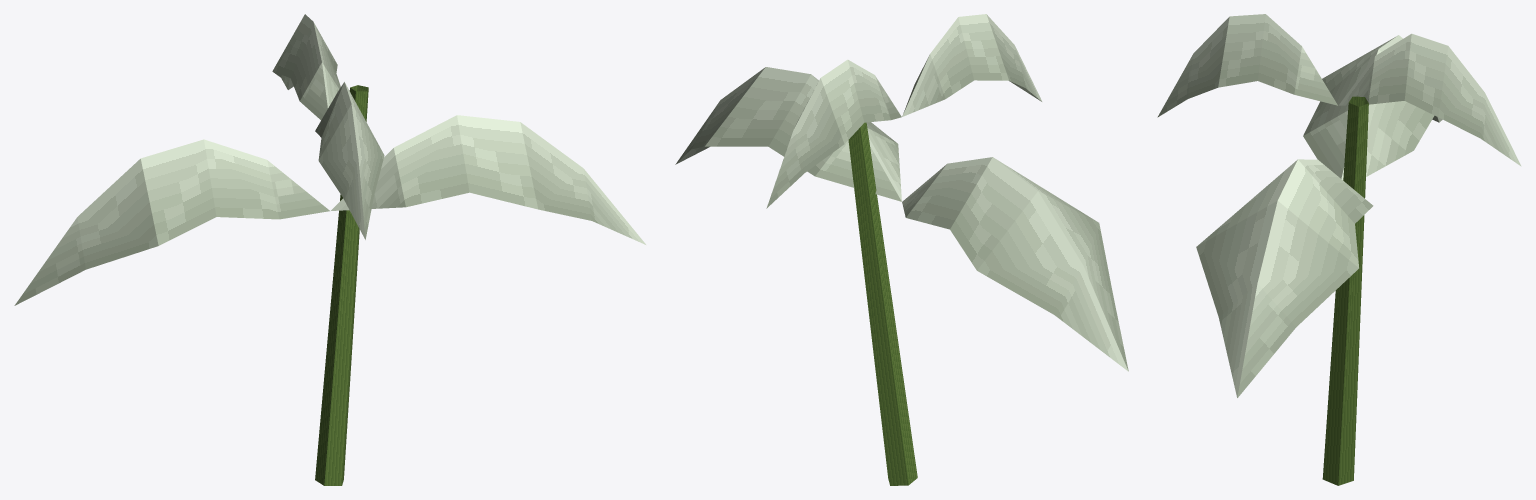
File: hybrid_0.obj
3 views of the same model, side by side, from view 1: azimuth 30°, elevation 25°; view 2: azimuth 150°, elevation 25°; view 3: azimuth 270°, elevation 25° (orthographic). The views are drawn at different scales.
Parts seen in each view (by area): view 1: plant; view 2: plant; view 3: plant.
Boxes of the visible parts, <box> form: plant: <box>14,14,645,485</box>; plant: <box>675,14,1128,485</box>; plant: <box>1157,14,1521,485</box>.
Bounding box in the file's own units: 0.2985 × 0.2294 × 0.1667.
